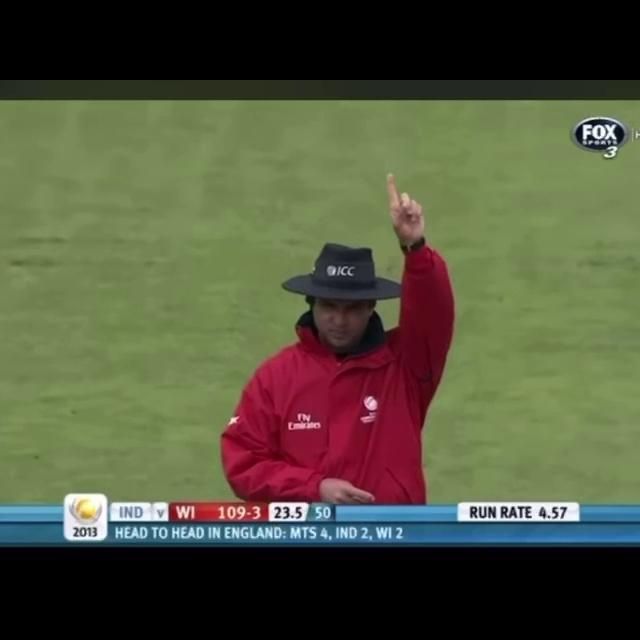umpire: (163, 167, 512, 499)
